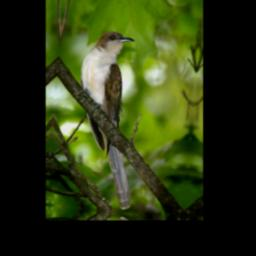Cuckoo: (68, 27, 146, 210)
